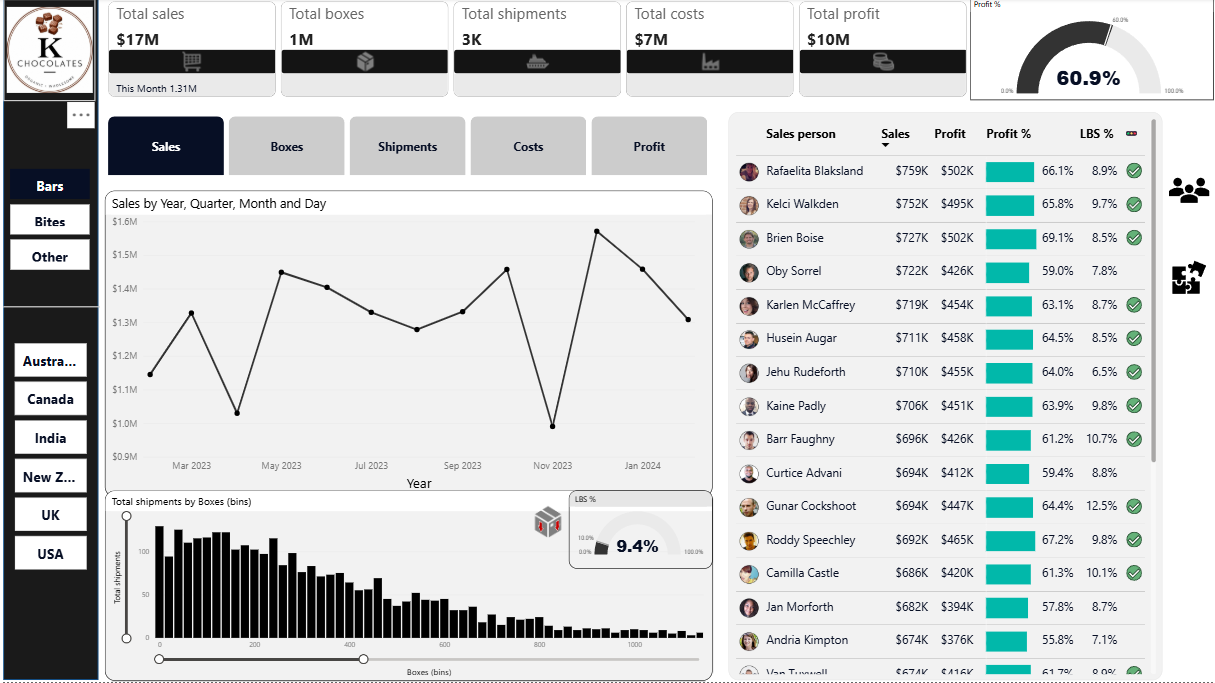

Layout of this report page (visuals, bound fields, positions):
{"tool":"powerbi","page":{"name":"sales report","canvas":[1920,1080],"ordinal":1},"visuals":[{"type":"shape","box":[6,0,150,1078],"z":500},{"type":"cardVisual","fields":{"Data":["_Measures.Total sales","_Measures.Total boxes","_Measures.Total shipments","_Measures.Total costs","_Measures.Total profit"]},"box":[165.4,0,1368.7,161.7],"z":1000},{"type":"gauge","fields":{"Y":["_Measures.Profit %"]},"box":[1534.1,0,385.4,161.7],"z":2000},{"type":"image","box":[6,2,146,160],"z":3000},{"type":"lineChart","fields":{"Y":["_Measures.Total sales"],"Category":["calendar.Start of Month.Variation.Date Hierarchy.Year","calendar.Start of Month.Variation.Date Hierarchy.Quarter","calendar.Start of Month.Variation.Date Hierarchy.Month","calendar.Start of Month.Variation.Date Hierarchy.Day"]},"box":[165.5,304.7,960.5,484.3],"z":4000},{"type":"advancedSlicerVisual","fields":{"Values":["Measure Selector.Measure Selector"]},"box":[165.4,182.4,960.7,103.4],"z":5000},{"type":"columnChart","fields":{"Category":["shipments.Boxes (bins)"],"Y":["_Measures.Total shipments"]},"box":[165.4,778.3,960.7,300.8],"z":6000},{"type":"gauge","fields":{"Y":["_Measures.LBS %"]},"box":[898.7,778.3,227.5,124.1],"z":7000},{"type":"image","box":[815.9,793.4,99.6,69.6],"z":8000},{"type":"tableEx","title":"people details","fields":{"Values":["people.Picture","people.Sales person","_Measures.Total sales","_Measures.Total profit","_Measures.Profit %","_Measures.LBS %","_Measures.Profit Target Indicator"]},"box":[1152.2,179.6,686.1,897.9],"z":9000},{"type":"image","title":"product icon","box":[1838.2,373.3,82.7,137.2],"z":11000},{"type":"image","title":"people icon","box":[1838.2,234.1,82.7,139.2],"z":12000},{"type":"advancedSlicerVisual","fields":{"Values":["products.Category"]},"box":[10,264,136,172],"z":12001},{"type":"advancedSlicerVisual","fields":{"Values":["shipments.Geography"]},"box":[18,540,124,372],"z":12002},{"type":"shape","box":[6,436,152,104],"z":12003}]}

Visuals, with their boxes on the page's 1920x1080 design canvas (x1, y1, x2, y2). These are canvas units, not pixel positions in the 1215x683 screenshot, which may show the page scaled, cropped or inside an application window:
shape: select_region(6, 0, 156, 1078)
cardVisual - _Measures.Total sales x _Measures.Total boxes: select_region(165, 0, 1534, 162)
gauge - _Measures.Profit %: select_region(1534, 0, 1920, 162)
image: select_region(6, 2, 152, 162)
lineChart - _Measures.Total sales x calendar.Start of Month.Variation.Date Hierarchy.Year: select_region(166, 305, 1126, 789)
advancedSlicerVisual - Measure Selector.Measure Selector: select_region(165, 182, 1126, 286)
columnChart - shipments.Boxes (bins) x _Measures.Total shipments: select_region(165, 778, 1126, 1079)
gauge - _Measures.LBS %: select_region(899, 778, 1126, 902)
image: select_region(816, 793, 916, 863)
"people details" tableEx: select_region(1152, 180, 1838, 1078)
"product icon" image: select_region(1838, 373, 1921, 510)
"people icon" image: select_region(1838, 234, 1921, 373)
advancedSlicerVisual - products.Category: select_region(10, 264, 146, 436)
advancedSlicerVisual - shipments.Geography: select_region(18, 540, 142, 912)
shape: select_region(6, 436, 158, 540)
